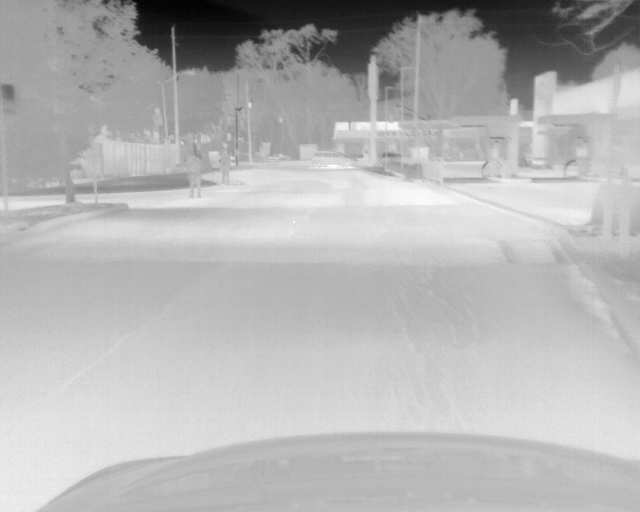car: (309, 149, 350, 169)
people: (184, 151, 204, 200), (217, 147, 231, 186)
